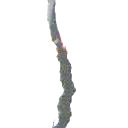crackTip: (45, 1, 77, 128)
